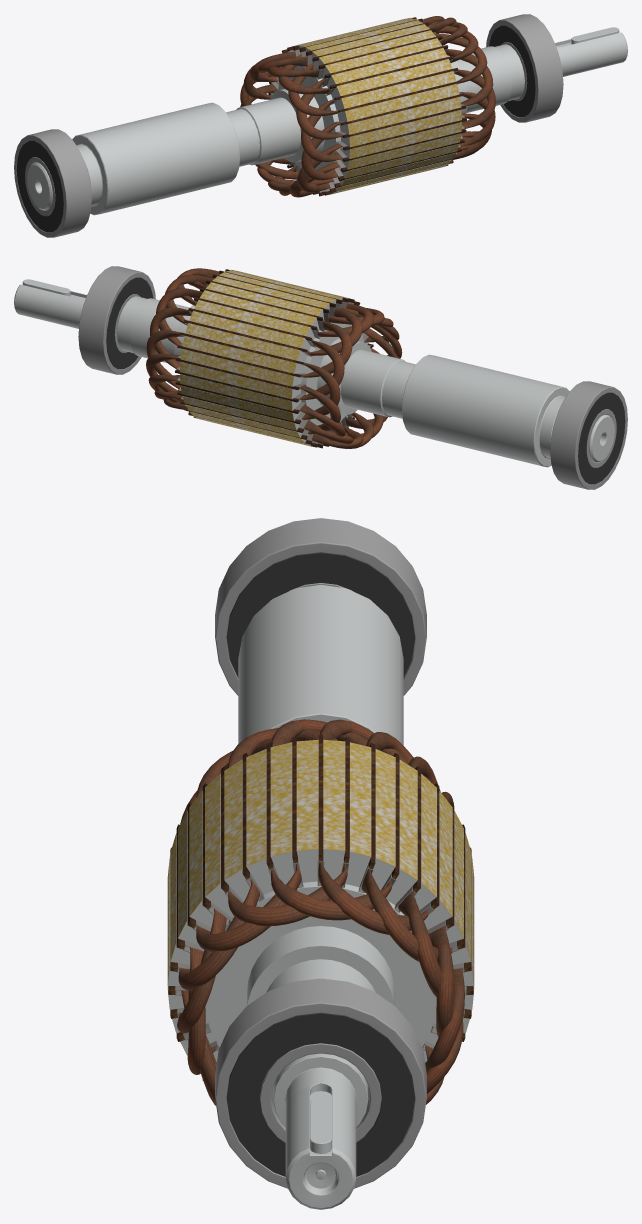
File: 交流感应电动机_绕线式-转子.fbx
3 views of the same model, one above another, from view 1: azimuth 30°, elevation 25°; view 2: azimuth 150°, elevation 25°; view 3: azimuth 270°, elevation 25° (orthographic). The views are drawn at different scales.
Parts seen in each view (by area): view 1: zztx; view 2: zztx; view 3: zztx.
Part boxes in pixels (x1,y1,x2,y2): zztx: (14,14,627,237); zztx: (14,266,627,489); zztx: (167,518,474,1209).
Bounding box in the file's own units: 57.1 × 13.02 × 13.02.
Materials: 1 (1 with a texture image).
